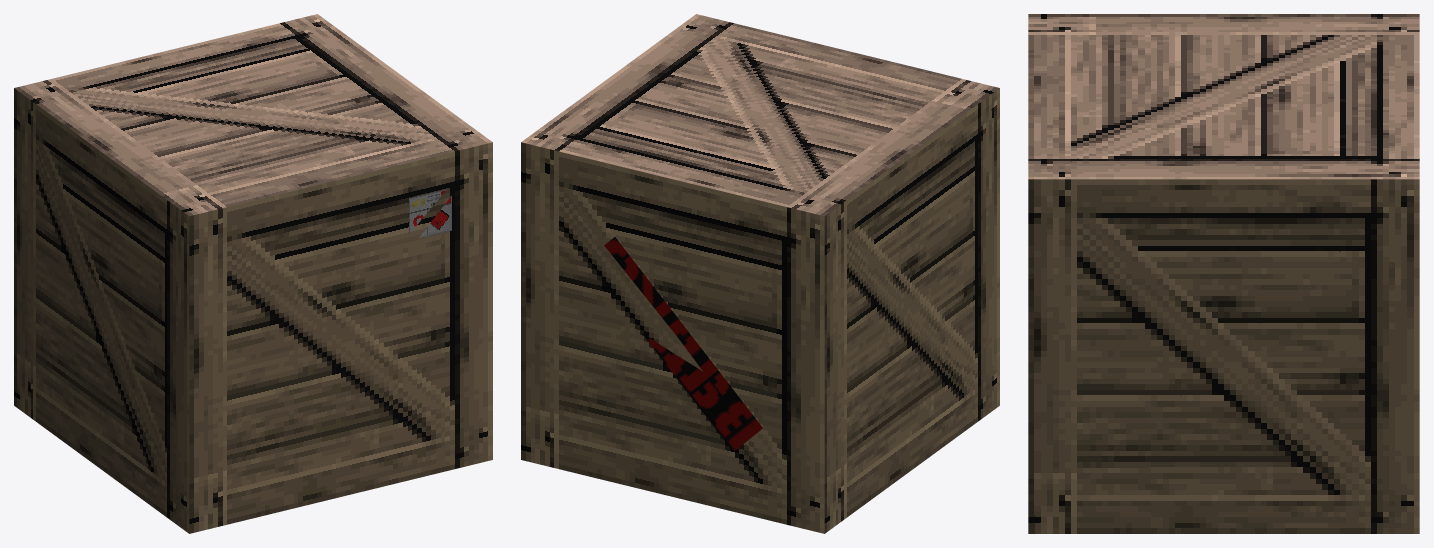
The model's file is primary_423.glb.
3 renders of one model, left to right at view 1: azimuth 30°, elevation 25°; view 2: azimuth 150°, elevation 25°; view 3: azimuth 270°, elevation 25°, orthographic. The views are drawn at different scales.
Visible parts, largest first — view 1: Object; view 2: Object; view 3: Object.
Part boxes in pixels (bbox=[...]): Object: bbox=[14, 14, 492, 533]; Object: bbox=[521, 14, 999, 533]; Object: bbox=[1028, 14, 1419, 533].
Bounding box in the file's own units: 0.0445 × 0.0445 × 0.0445.
Materials: 7 (7 with a texture image).
